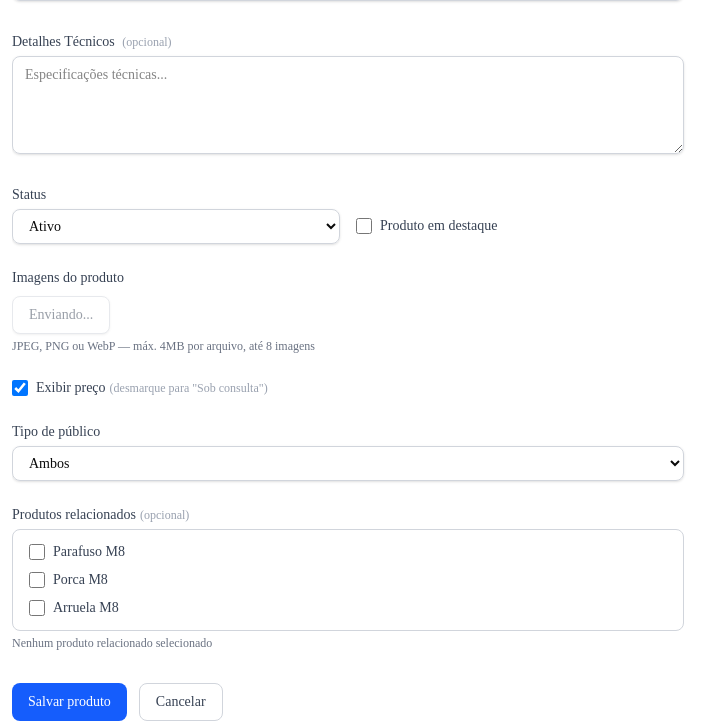
ProductForm — campo relatedProductIds › permite selecionar produtos relacionados e atualiza contagem
(page scrolled)
Click the checkbox labelled "Porca M8".
click(37, 580)  # box [29,572,45,588]
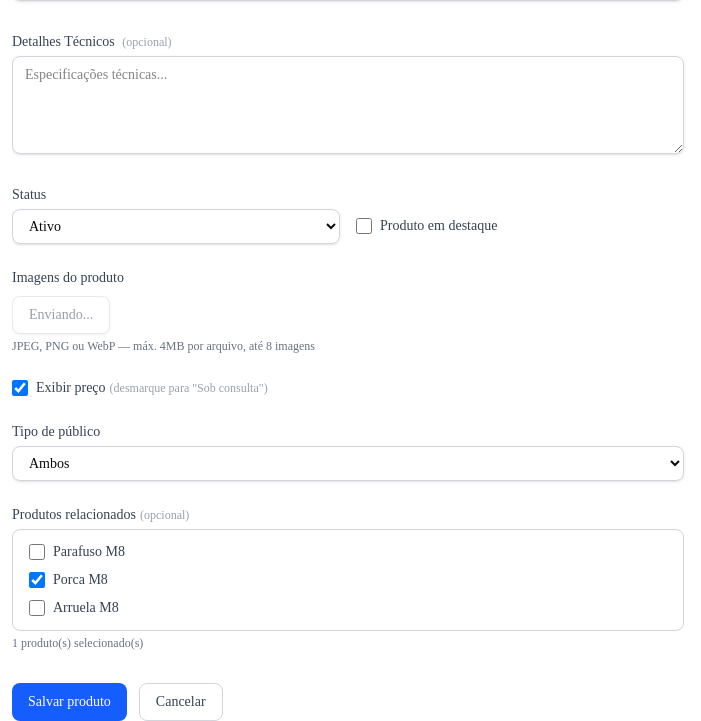
Expected: the checkbox labelled "Porca M8" is checked, [29,572,45,588]
Click the checkbox labelled "Arruela M8".
click(37, 608)  # box [29,600,45,616]
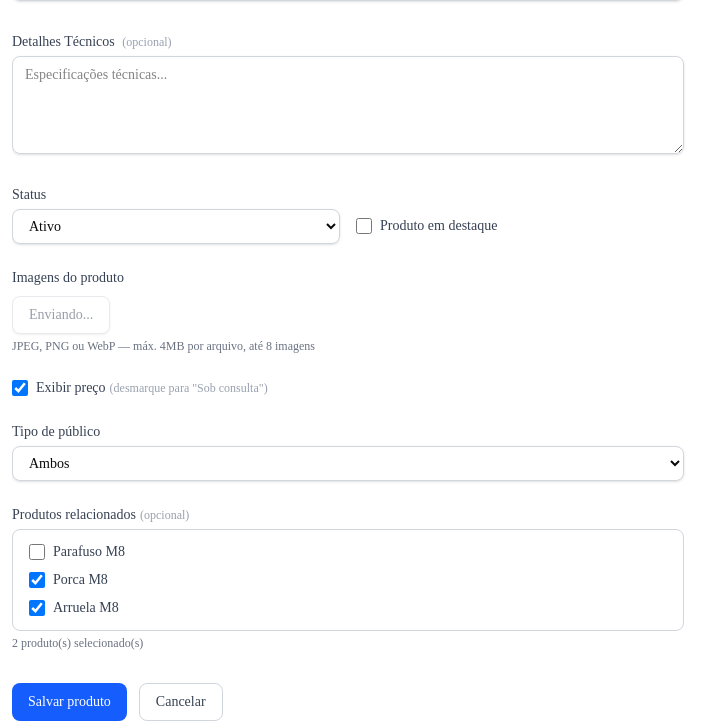
Expected: the checkbox labelled "Arruela M8" is checked, [29,600,45,616]
Expected: the text "2 produto(s) selecionado(s)" is shown, [12,636,143,650]
